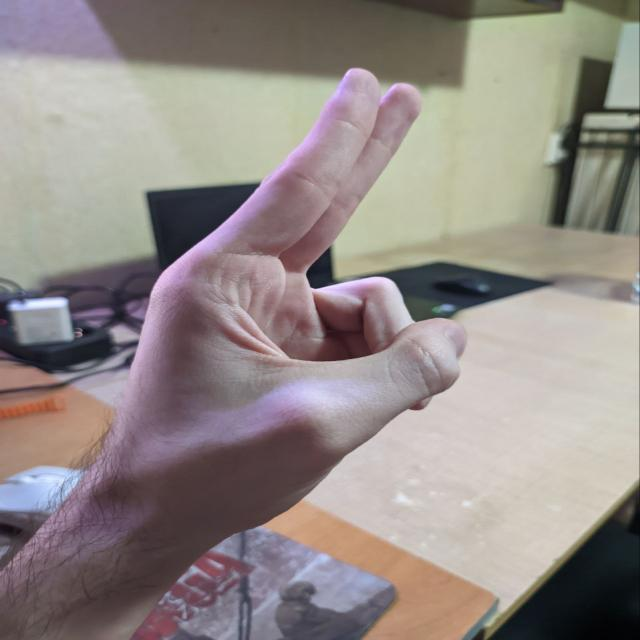d: (144, 52, 468, 458)
